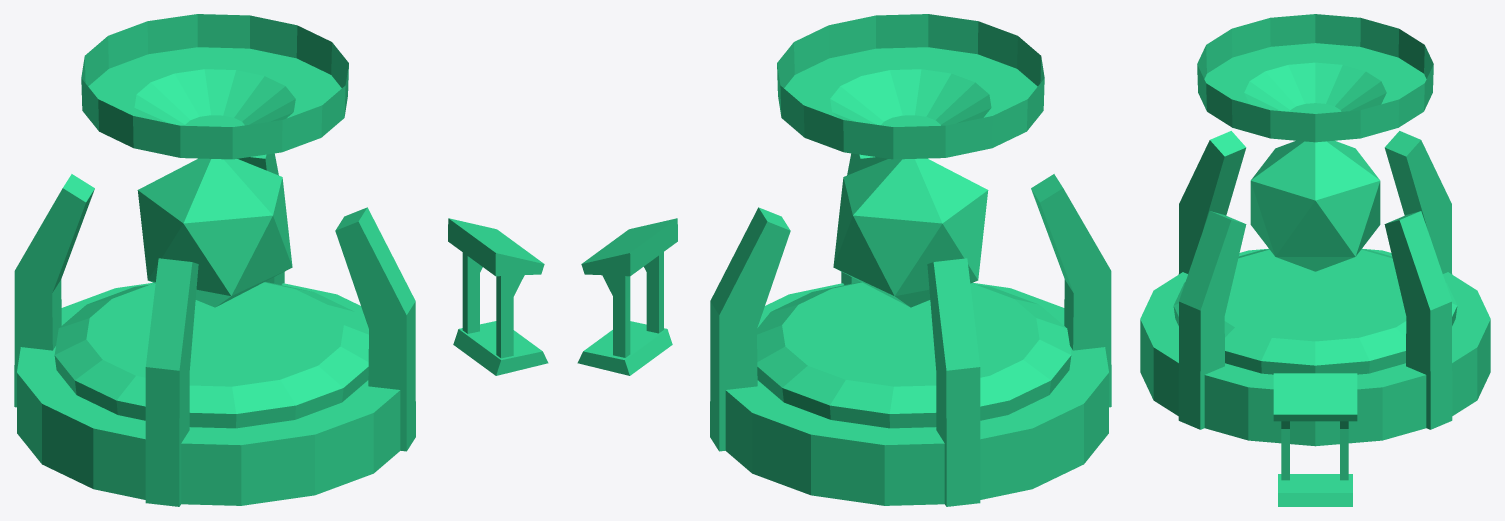
File: ColReactor.fbx
The picture shows the model from 3 angles, left to right: view 1: azimuth 30°, elevation 25°; view 2: azimuth 150°, elevation 25°; view 3: azimuth 270°, elevation 25°; orthographic projection. The views are drawn at different scales.
Visible parts, largest first — view 1: ColReactor; view 2: ColReactor; view 3: ColReactor.
Boxes of the visible parts, <box> form: ColReactor: <box>14,14,548,506</box>; ColReactor: <box>577,14,1111,506</box>; ColReactor: <box>1140,14,1490,506</box>.
Bounding box in the file's own units: 431 × 300 × 308.
